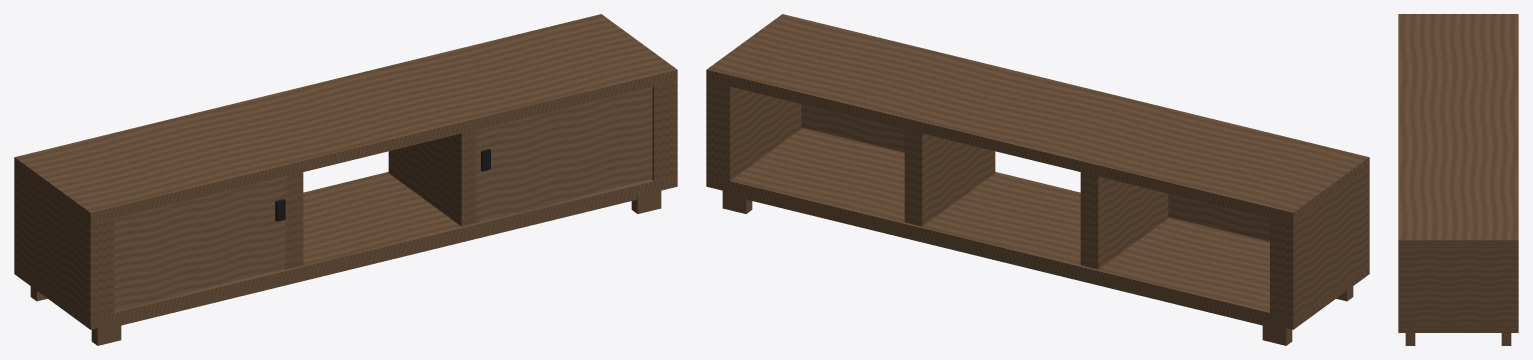
3 renders of one model, left to right at view 1: azimuth 30°, elevation 25°; view 2: azimuth 150°, elevation 25°; view 3: azimuth 270°, elevation 25°, orthographic. The views are drawn at different scales.
Parts seen in each view (by area): view 1: 1 top_panel, 2 bottom_panel, 8 right_fluted_door, 7 left_fluted_door, 3 left_side_panel, 6 right_inner_divider, 4 right_side_panel, 15 front_base_rail, 5 left_inner_divider, 11 front_left_leg, 12 front_right_leg; view 2: 1 top_panel, 2 bottom_panel, 3 left_side_panel, 4 right_side_panel, 6 right_inner_divider, 5 left_inner_divider, 8 right_fluted_door, 7 left_fluted_door, 16 back_base_rail, 13 back_left_leg, 14 back_right_leg; view 3: 1 top_panel, 4 right_side_panel, 2 bottom_panel, 12 front_right_leg, 14 back_right_leg.
Part boxes in pixels (<box>): 1 top_panel: <box>14,14,677,223</box>; 2 bottom_panel: <box>14,172,677,329</box>; 8 right_fluted_door: <box>476,87,652,221</box>; 7 left_fluted_door: <box>114,176,288,309</box>; 3 left_side_panel: <box>14,168,113,318</box>; 6 right_inner_divider: <box>388,129,479,226</box>; 4 right_side_panel: <box>651,81,677,181</box>; 15 front_base_rail: <box>121,196,636,325</box>; 5 left_inner_divider: <box>284,172,303,269</box>; 11 front_left_leg: <box>91,322,121,345</box>; 12 front_right_leg: <box>631,191,661,213</box>; 1 top_panel: <box>706,14,1369,223</box>; 2 bottom_panel: <box>706,128,1369,329</box>; 3 left_side_panel: <box>1270,168,1369,318</box>; 4 right_side_panel: <box>706,81,802,181</box>; 6 right_inner_divider: <box>904,129,995,226</box>; 5 left_inner_divider: <box>1080,172,1169,269</box>; 8 right_fluted_door: <box>801,104,904,152</box>; 7 left_fluted_door: <box>1168,193,1269,241</box>; 16 back_base_rail: <box>747,196,1262,325</box>; 13 back_left_leg: <box>1262,322,1292,345</box>; 14 back_right_leg: <box>722,191,752,213</box>; 1 top_panel: <box>1398,14,1518,249</box>; 4 right_side_panel: <box>1398,249,1518,323</box>; 2 bottom_panel: <box>1398,324,1518,332</box>; 12 front_right_leg: <box>1405,333,1415,345</box>; 14 back_right_leg: <box>1501,333,1511,345</box>.
Size of the model in its own units: 4.41 by 1 by 0.99.
3 materials, 2 textured.
